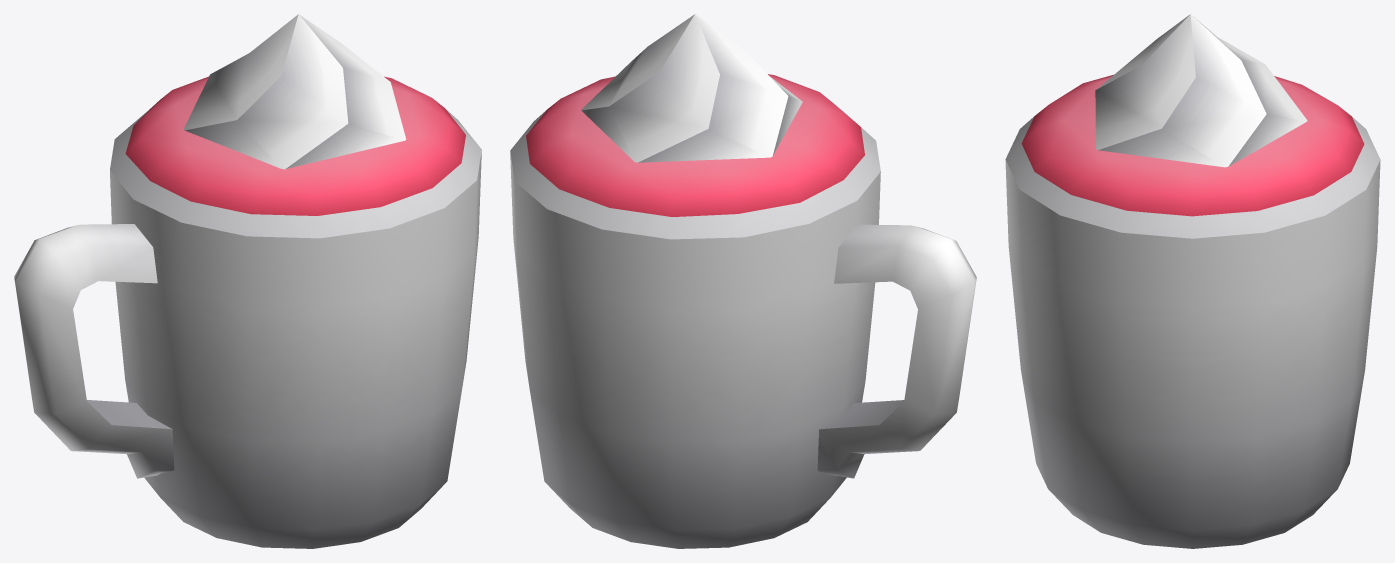
Rendered from m_Mug01_Pink04.fbx.
3 renders of one model, left to right at view 1: azimuth 30°, elevation 25°; view 2: azimuth 150°, elevation 25°; view 3: azimuth 270°, elevation 25°, orthographic.
Visible parts, largest first — view 1: m_Mug01_Pink04; view 2: m_Mug01_Pink04; view 3: m_Mug01_Pink04.
Part boxes in pixels (bbox=[...]): m_Mug01_Pink04: bbox=[14, 14, 481, 548]; m_Mug01_Pink04: bbox=[510, 14, 976, 548]; m_Mug01_Pink04: bbox=[1005, 14, 1380, 548].
Bounding box in the file's own units: 15.22 × 15.79 × 11.16.
